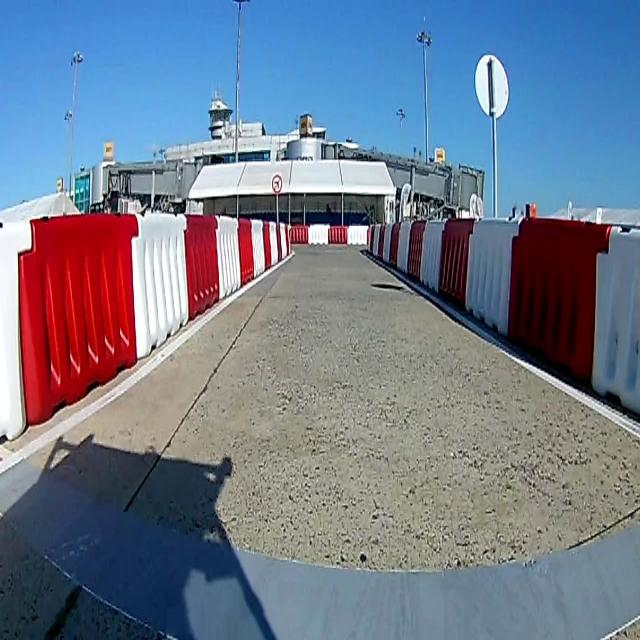soladonulmez: (270, 173, 284, 194)
